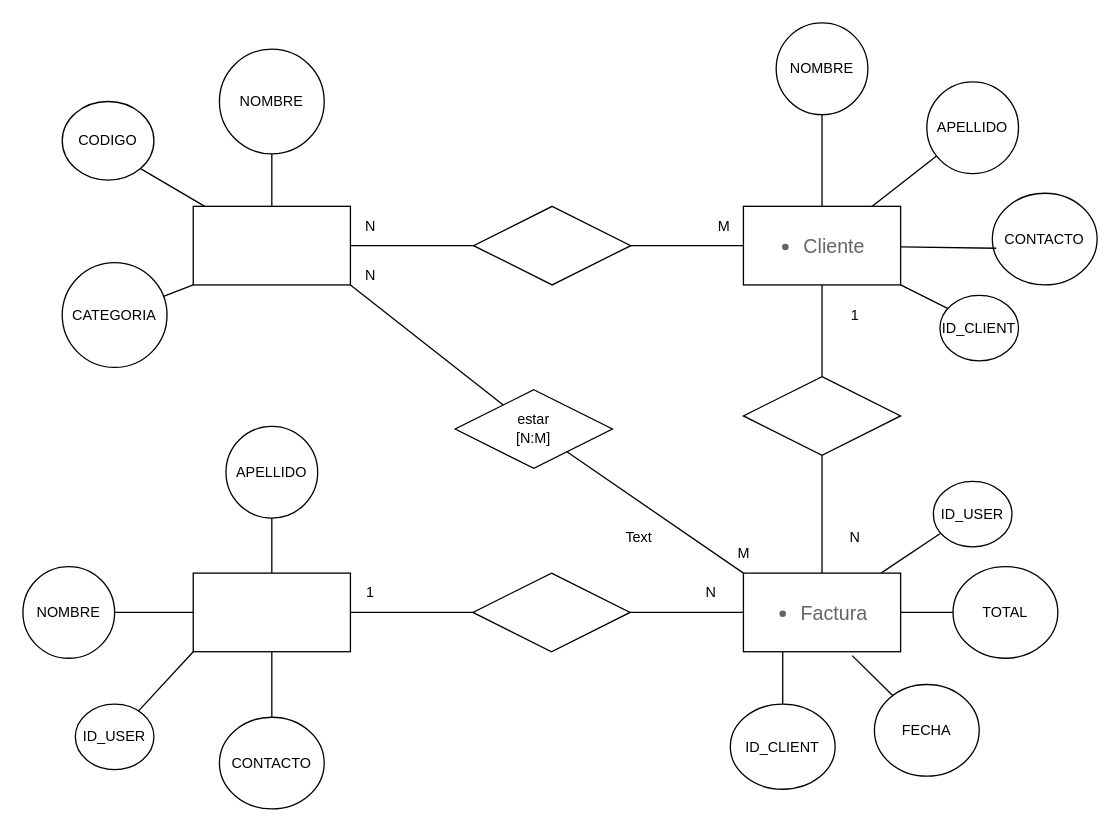
This 1120x832 diagram has some shape labels left out. Here are the shapes that lost their labels. From the top down, the box of each, then its label:
(192, 205, 350, 285): Producto
(472, 205, 631, 285): comprar [N:M]
(742, 375, 901, 455): TENER [1:N]
(192, 572, 350, 652): Usuario
(472, 572, 630, 652): hacer [1:N]
